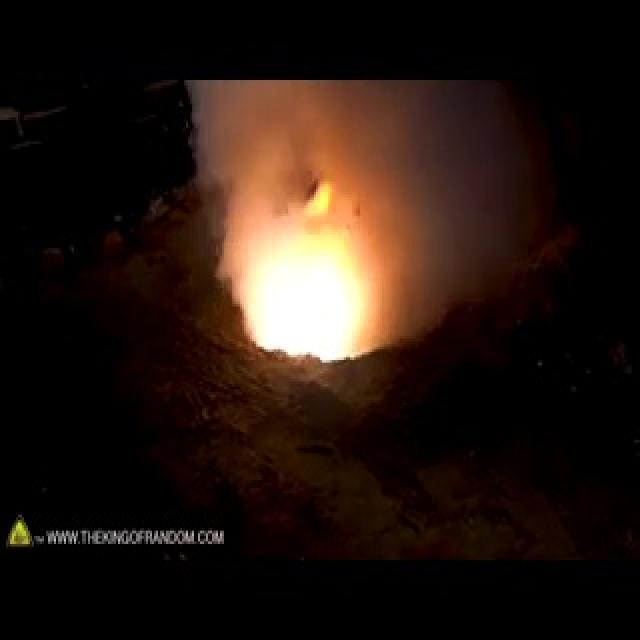Fire: (215, 85, 534, 245), (228, 236, 358, 358)
